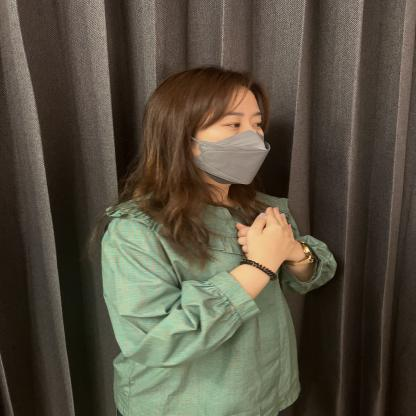Grieve: (146, 193, 416, 300)
